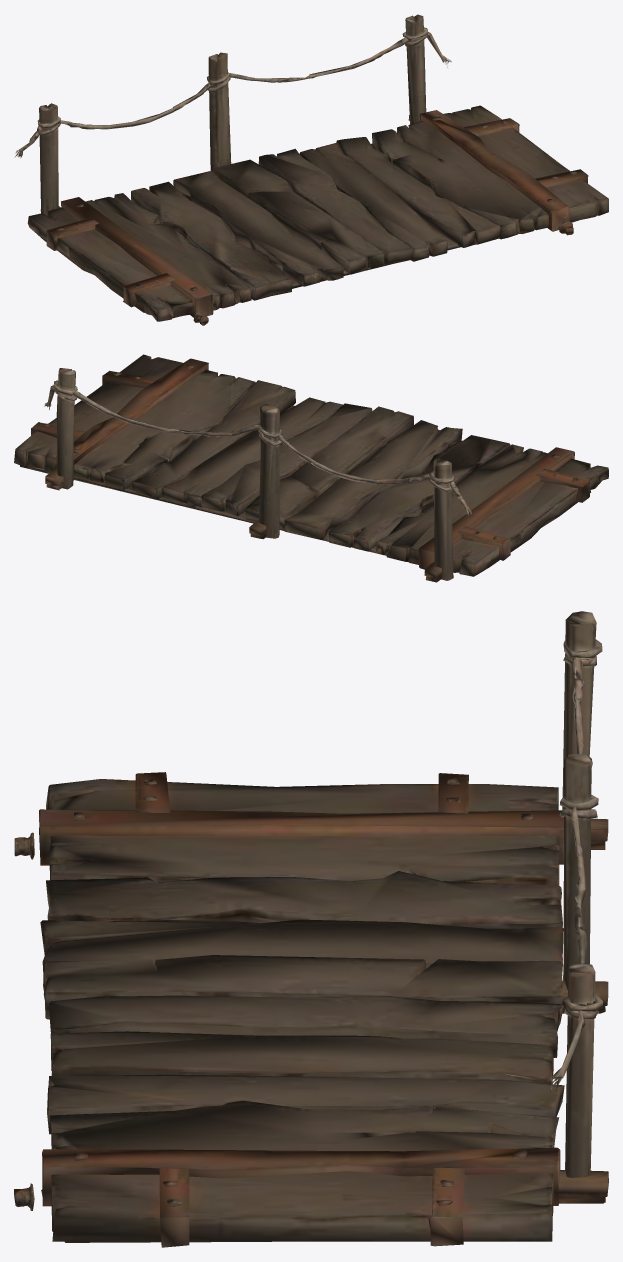
File: k-walkway.glb
3 renders of one model, top to bottom at view 1: azimuth 30°, elevation 25°; view 2: azimuth 150°, elevation 25°; view 3: azimuth 270°, elevation 25°, orthographic. The views are drawn at different scales.
Bounding box in the file's own units: 0.9497 × 0.2495 × 0.5371.
Materials: 1 (1 with a texture image).
